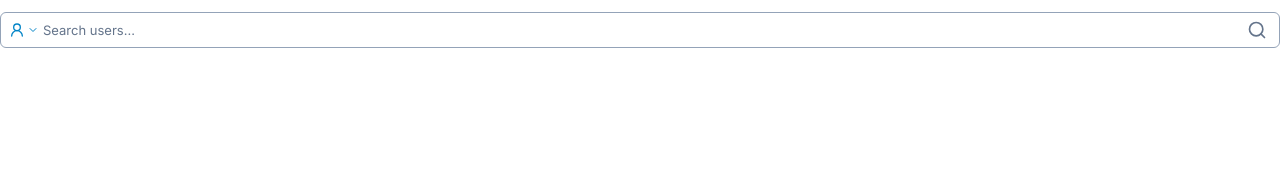
Scenario: UserLookup › keeps the Lead owner list hidden on focus until the search button is clicked
Step 1. Focus the dropdown named "New Owner" → (641, 30), box [43,14,1239,46]
Step 2. Click the button named "Search New Owner" → (1257, 30), box [1243,16,1271,44]
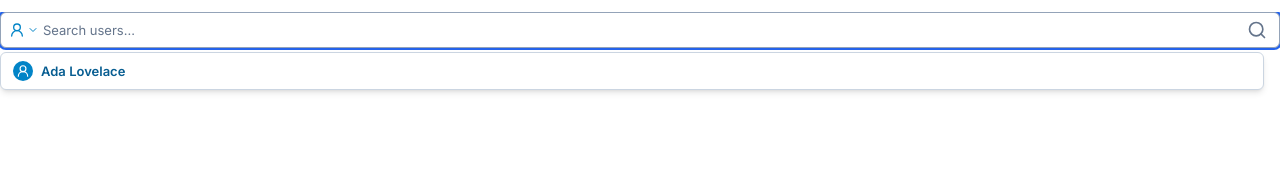
Result: the option "Ada Lovelace" is shown at [5,57,1259,85]
